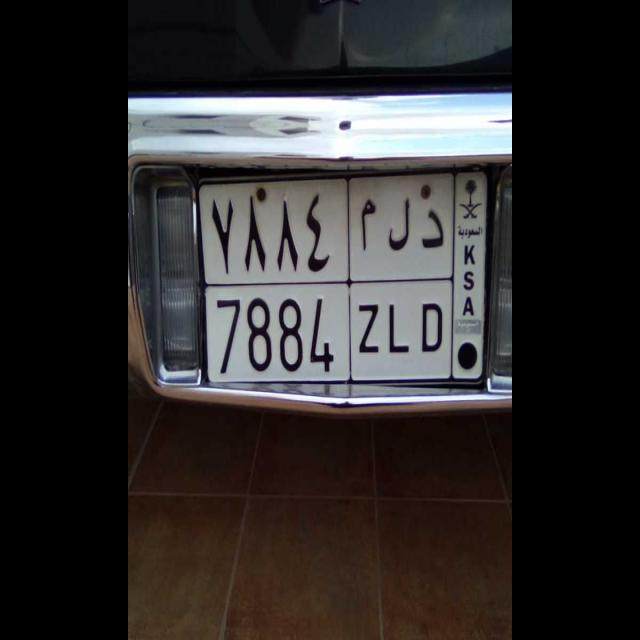license_plate: (198, 283, 454, 395)
